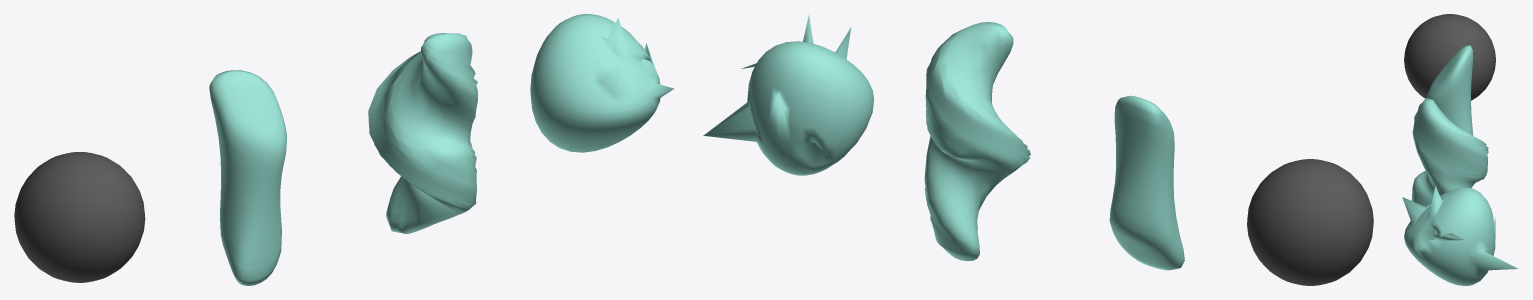
The model's file is simple_019_BlendShapes_01.dae.
The picture shows the model from 3 angles, left to right: view 1: azimuth 30°, elevation 25°; view 2: azimuth 150°, elevation 25°; view 3: azimuth 270°, elevation 25°; orthographic projection. The views are drawn at different scales.
Visible parts, largest first — view 1: pSphere3, pSphere4, pSphere1, pSphere2; view 2: pSphere3, pSphere4, pSphere1, pSphere2; view 3: pSphere4, pSphere3, pSphere1, pSphere2.
Part boxes in pixels (x1,y1,x2,y2): pSphere3: [368, 33, 478, 233]; pSphere4: [530, 14, 674, 152]; pSphere1: [14, 152, 145, 282]; pSphere2: [209, 70, 286, 285]; pSphere3: [924, 22, 1030, 261]; pSphere4: [703, 15, 873, 175]; pSphere1: [1247, 159, 1373, 285]; pSphere2: [1109, 95, 1184, 270]; pSphere4: [1402, 186, 1518, 285]; pSphere3: [1411, 98, 1488, 206]; pSphere1: [1404, 14, 1495, 100]; pSphere2: [1427, 45, 1473, 135].
Size of what is drawn, in the model's own units: 112 by 25.35 by 36.72.
